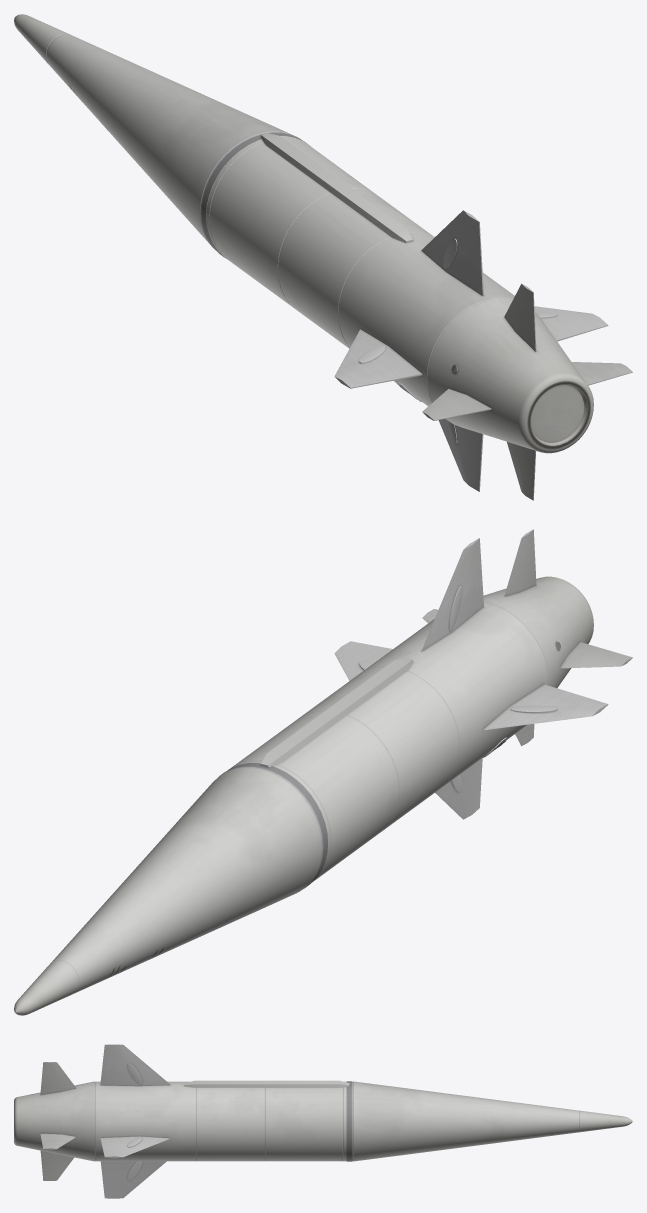
The model's file is w_kinzhal.glb.
3 renders of one model, top to bottom at view 1: azimuth 30°, elevation 25°; view 2: azimuth 150°, elevation 25°; view 3: azimuth 270°, elevation 25°, orthographic. The views are drawn at different scales.
Visible parts, largest first — view 1: body|KNZ_body, body|KNZ_fin, body|KNZ_bodyF, body|KNZ_steel, body|KNZ_finF, body|KNZ_dark; view 2: body|KNZ_body, body|KNZ_fin, body|KNZ_bodyF, body|KNZ_steel, body|KNZ_finF; view 3: body|KNZ_body, body|KNZ_fin, body|KNZ_bodyF, body|KNZ_steel, body|KNZ_finF.
Part boxes in pixels (<box>): body|KNZ_body: <box>14,14,593,453</box>; body|KNZ_fin: <box>334,210,632,500</box>; body|KNZ_bodyF: <box>260,133,413,243</box>; body|KNZ_steel: <box>201,132,307,255</box>; body|KNZ_finF: <box>359,238,556,444</box>; body|KNZ_dark: <box>528,381,590,448</box>; body|KNZ_body: <box>14,576,593,1015</box>; body|KNZ_fin: <box>334,529,632,819</box>; body|KNZ_bodyF: <box>260,658,413,767</box>; body|KNZ_steel: <box>219,763,327,891</box>; body|KNZ_finF: <box>359,586,556,792</box>; body|KNZ_body: <box>14,1081,632,1161</box>; body|KNZ_fin: <box>40,1044,170,1198</box>; body|KNZ_bodyF: <box>184,1080,349,1087</box>; body|KNZ_steel: <box>346,1081,352,1161</box>; body|KNZ_finF: <box>127,1063,142,1180</box>.
Size of the model in its own units: 1.97 by 1.97 by 7.19.
Materials: 7 (4 with a texture image).
